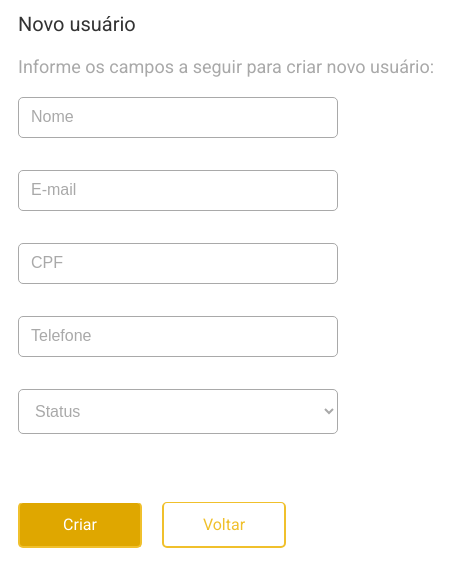
Scenario: submits customer form with invalid data
Click the button "Criar": click(80, 525) [18,502,142,548]
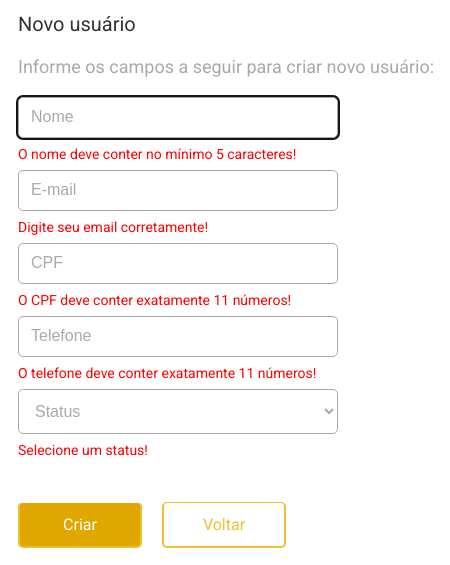
Expected: the text "O nome deve conter no mínimo 5 caracteres!" is shown, [18,146,296,162]
Expected: the text "Digite seu email corretamente!" is shown, [18,219,208,235]
Expected: the text "O CPF deve conter exatamente 11 números!" is shown, [18,292,291,308]
